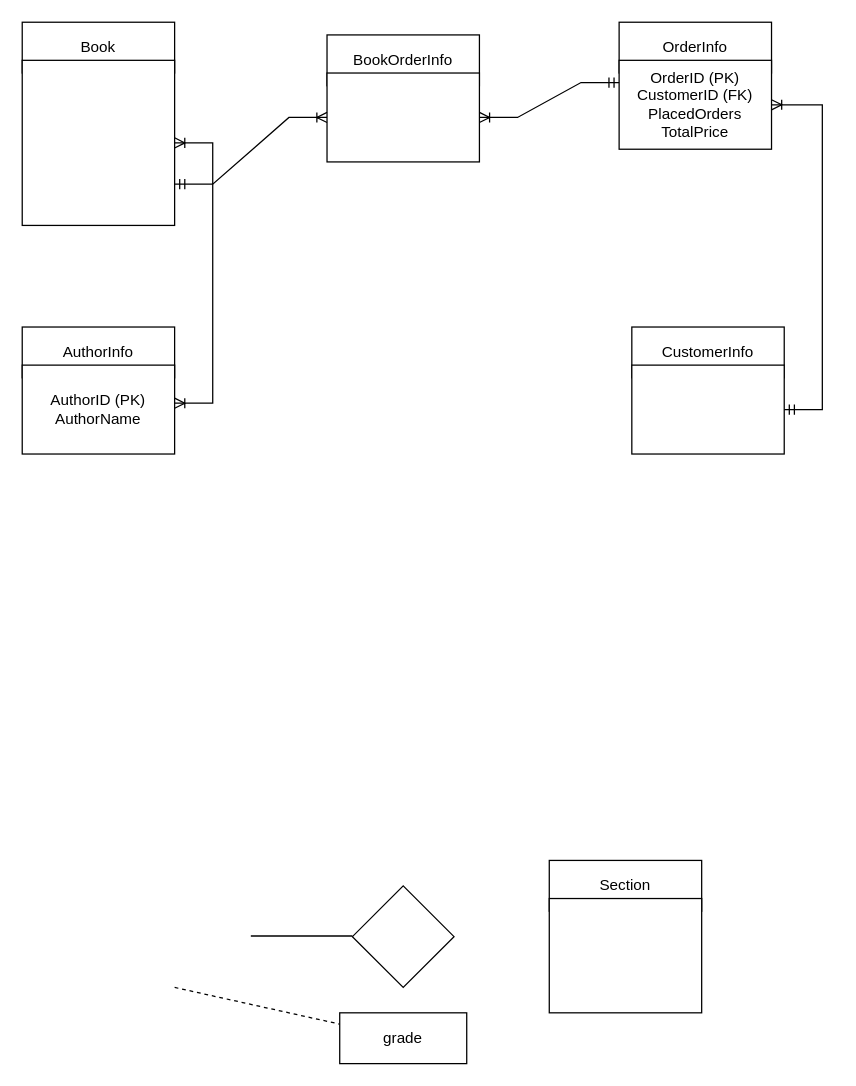
This 856x1086 diagram has some shape labels left out. Each missing label, with the centre of its shape:
CustomerID (PK) CustomerName: point 707,409
ISBN (PK) Title AuthorID (FK) Edition Publisher Pages Price BooksLeft: point 98,142
OrderID (FK) ISBN (FK): point 402,117
PK course_id PK sec_id PK semester_year FK building FK room_number: point 625,955
takes: point 402,936
